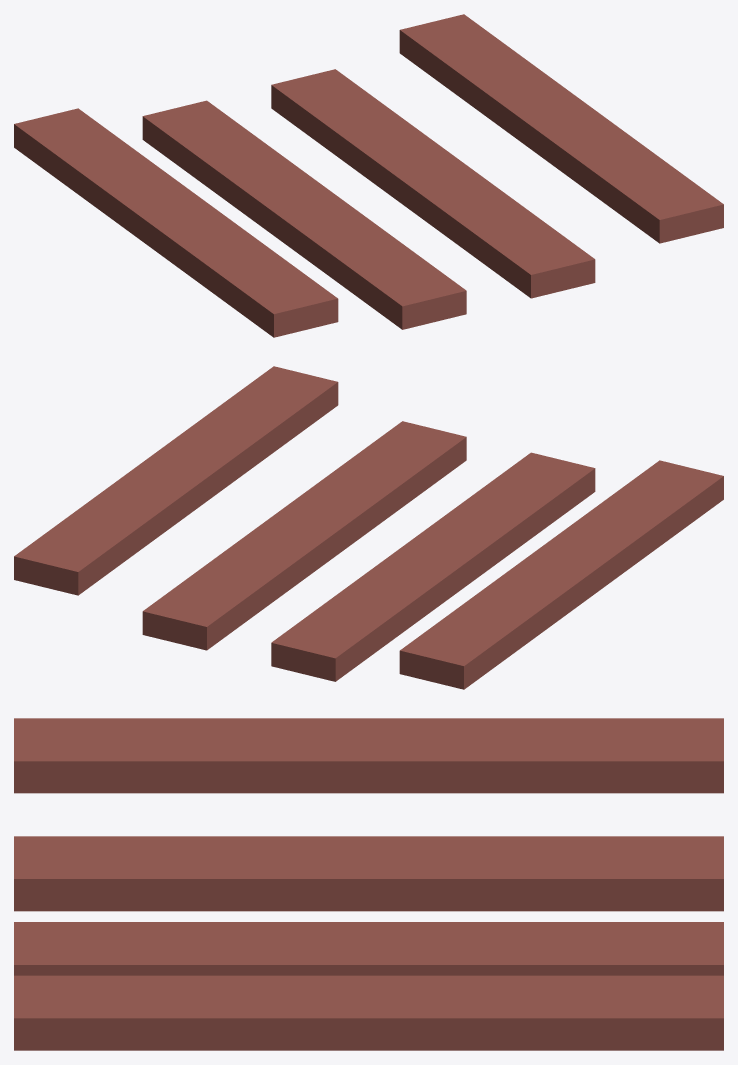
The model's file is Bridge.fbx.
3 views of the same model, one above another, from view 1: azimuth 30°, elevation 25°; view 2: azimuth 150°, elevation 25°; view 3: azimuth 270°, elevation 25° (orthographic). The views are drawn at different scales.
Parts seen in each view (by area): view 1: Bridge; view 2: Bridge; view 3: Bridge.
Part boxes in pixels (bbox=[...]): Bridge: bbox=[14, 14, 723, 337]; Bridge: bbox=[14, 366, 723, 689]; Bridge: bbox=[14, 718, 723, 1050].
Bounding box in the file's own units: 100 × 10 × 100.
